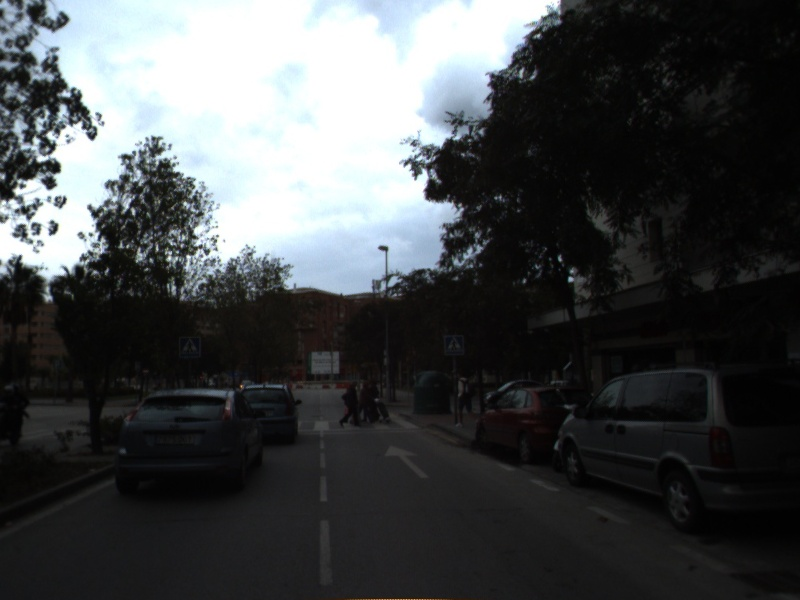STRAIGHT: (382, 443, 431, 479)
